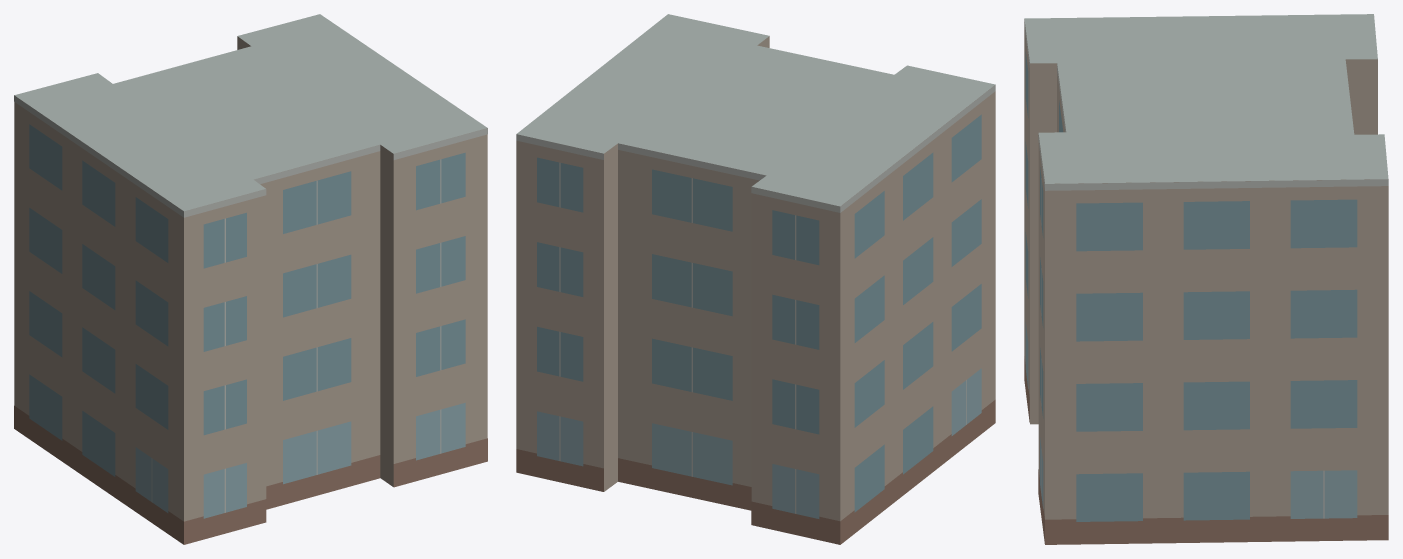
File: survey-upis-32802241.glb
The picture shows the model from 3 angles, left to right: view 1: azimuth 30°, elevation 25°; view 2: azimuth 150°, elevation 25°; view 3: azimuth 270°, elevation 25°; orthographic projection. The views are drawn at different scales.
Visible parts, largest first — view 1: survey-upis-32802241.tmp; view 2: survey-upis-32802241.tmp; view 3: survey-upis-32802241.tmp.
Part boxes in pixels (x1,y1,x2,y2): survey-upis-32802241.tmp: [14, 14, 487, 544]; survey-upis-32802241.tmp: [516, 14, 995, 544]; survey-upis-32802241.tmp: [1024, 14, 1388, 544].
Bounding box in the file's own units: 12.83 × 12.7 × 11.62.
